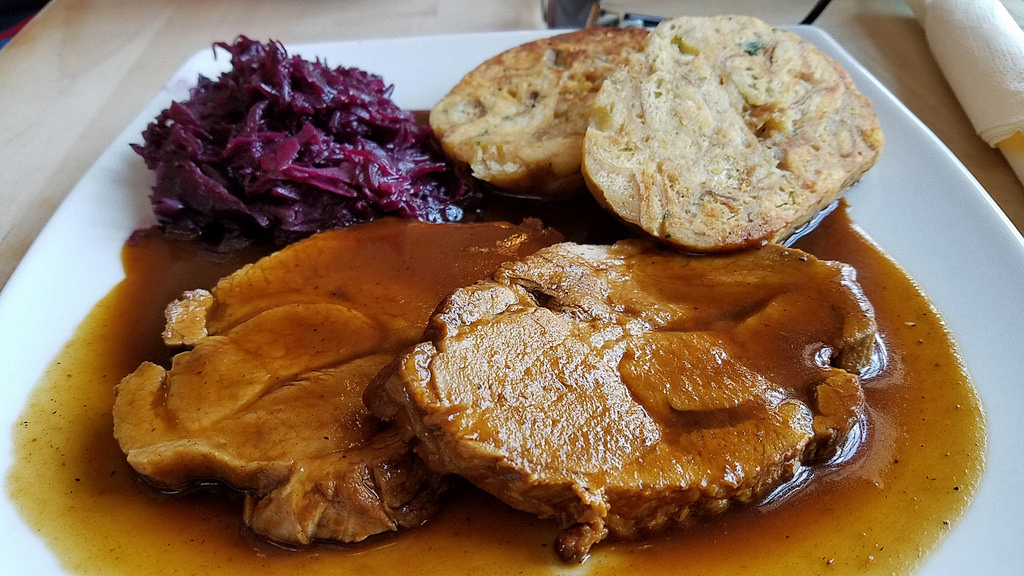slice of bread: (601, 31, 845, 249)
